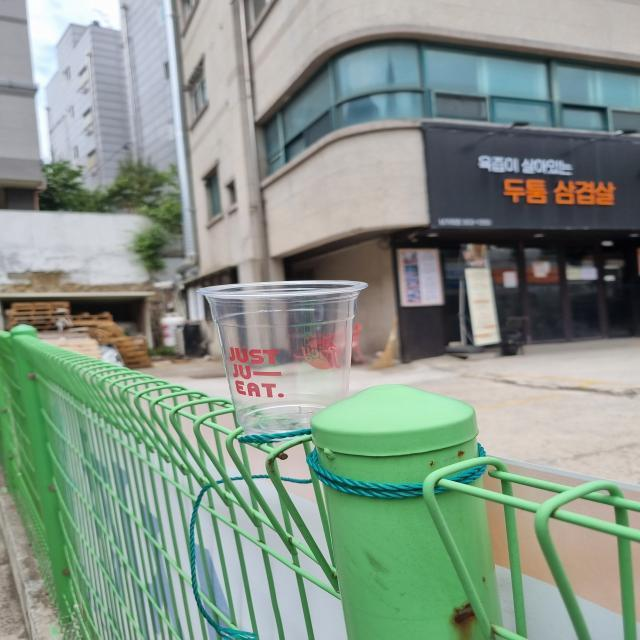bottle: (201, 281, 366, 434)
